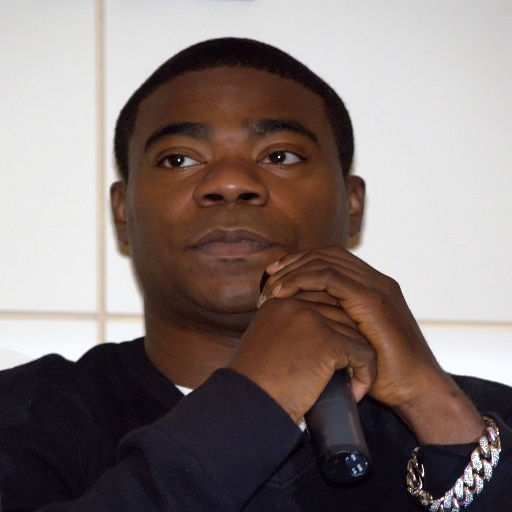hand: (255, 245, 438, 407), (223, 288, 378, 420)
